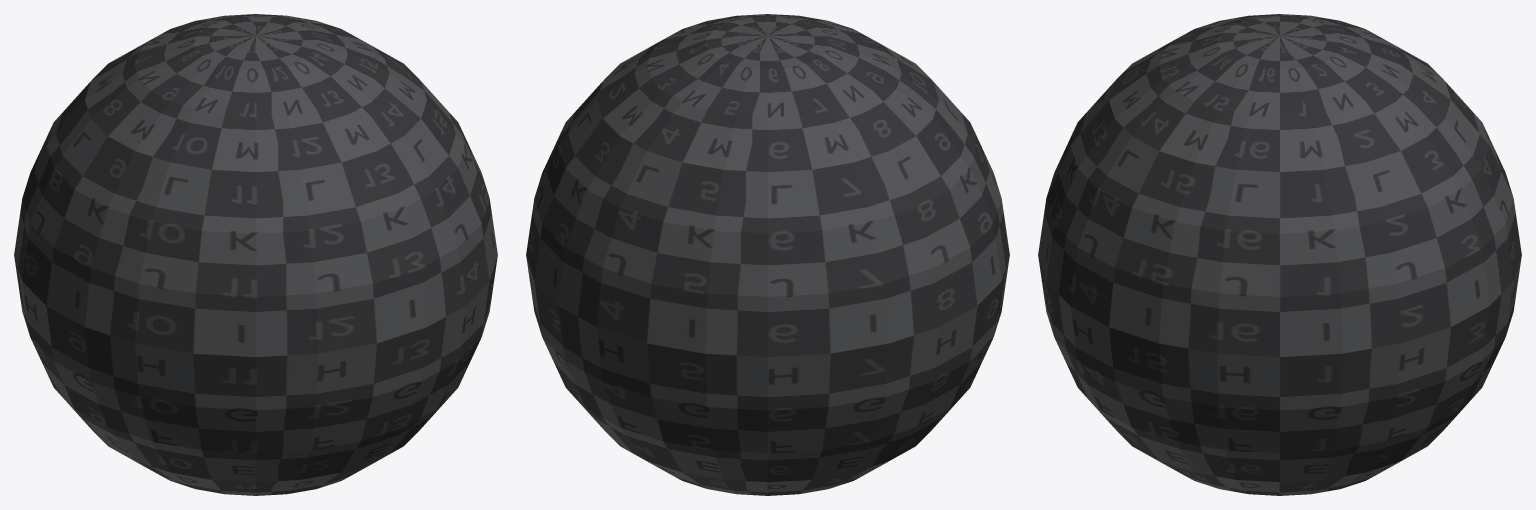
The model's file is sphere_with_texture.glb.
3 renders of one model, left to right at view 1: azimuth 30°, elevation 25°; view 2: azimuth 150°, elevation 25°; view 3: azimuth 270°, elevation 25°, orthographic.
Parts seen in each view (by area): view 1: test; view 2: test; view 3: test.
Part boxes in pixels (left/top/right/bottom): test: left=14, top=14, right=497, bottom=495; test: left=526, top=14, right=1009, bottom=495; test: left=1038, top=14, right=1521, bottom=495.
Bounding box in the file's own units: 2 × 2 × 2.
1 material, 1 textured.
